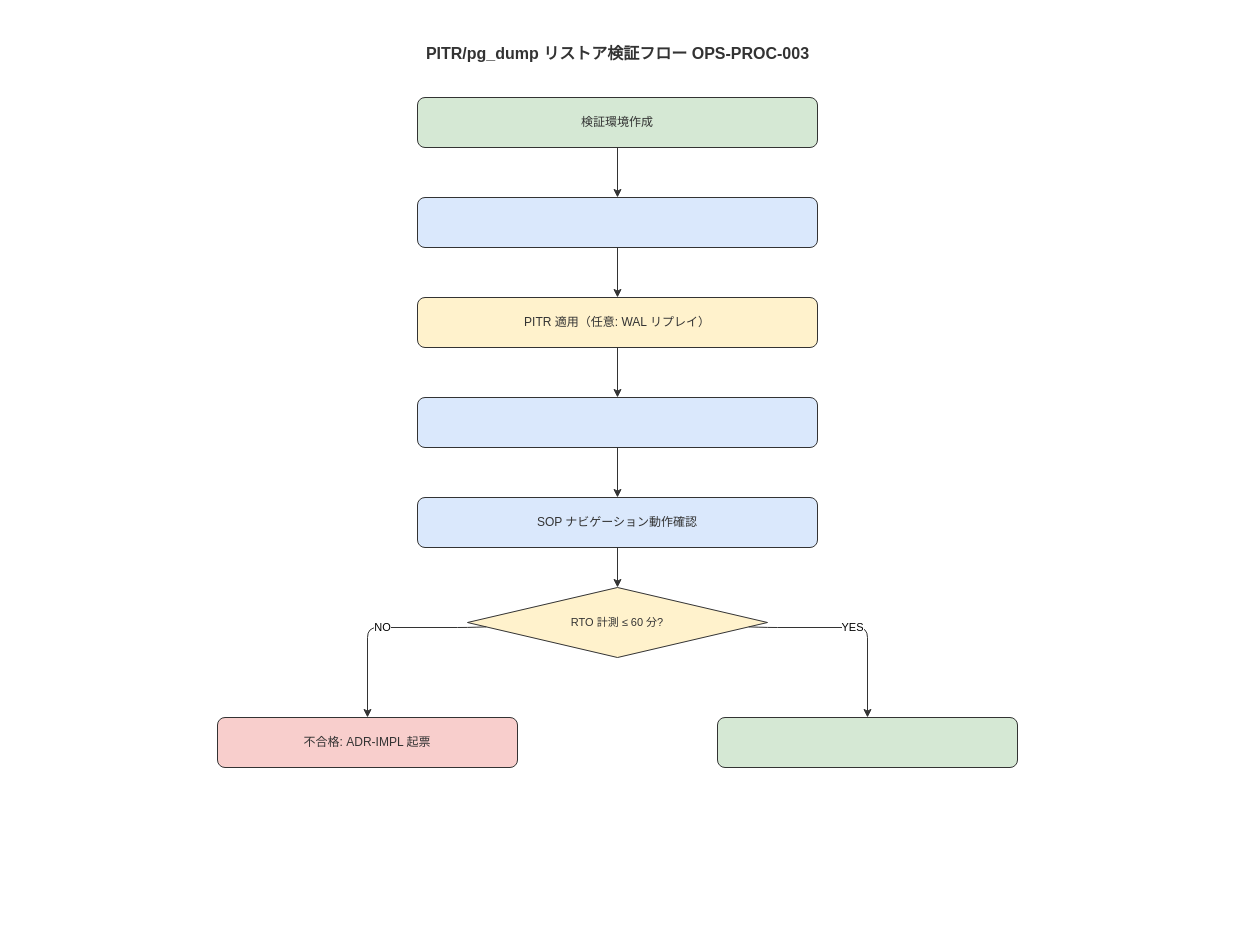
Some shapes in this 1234 by 934 pixel diagram are drawn without their labels. Each missing label, with the centre of its shape:
ハッシュチェーン検証: the point at 617,422
合格: maintenance_log 記録: the point at 867,742
復号 & pg_restore 実行 (AES-256-GCM): the point at 617,222
